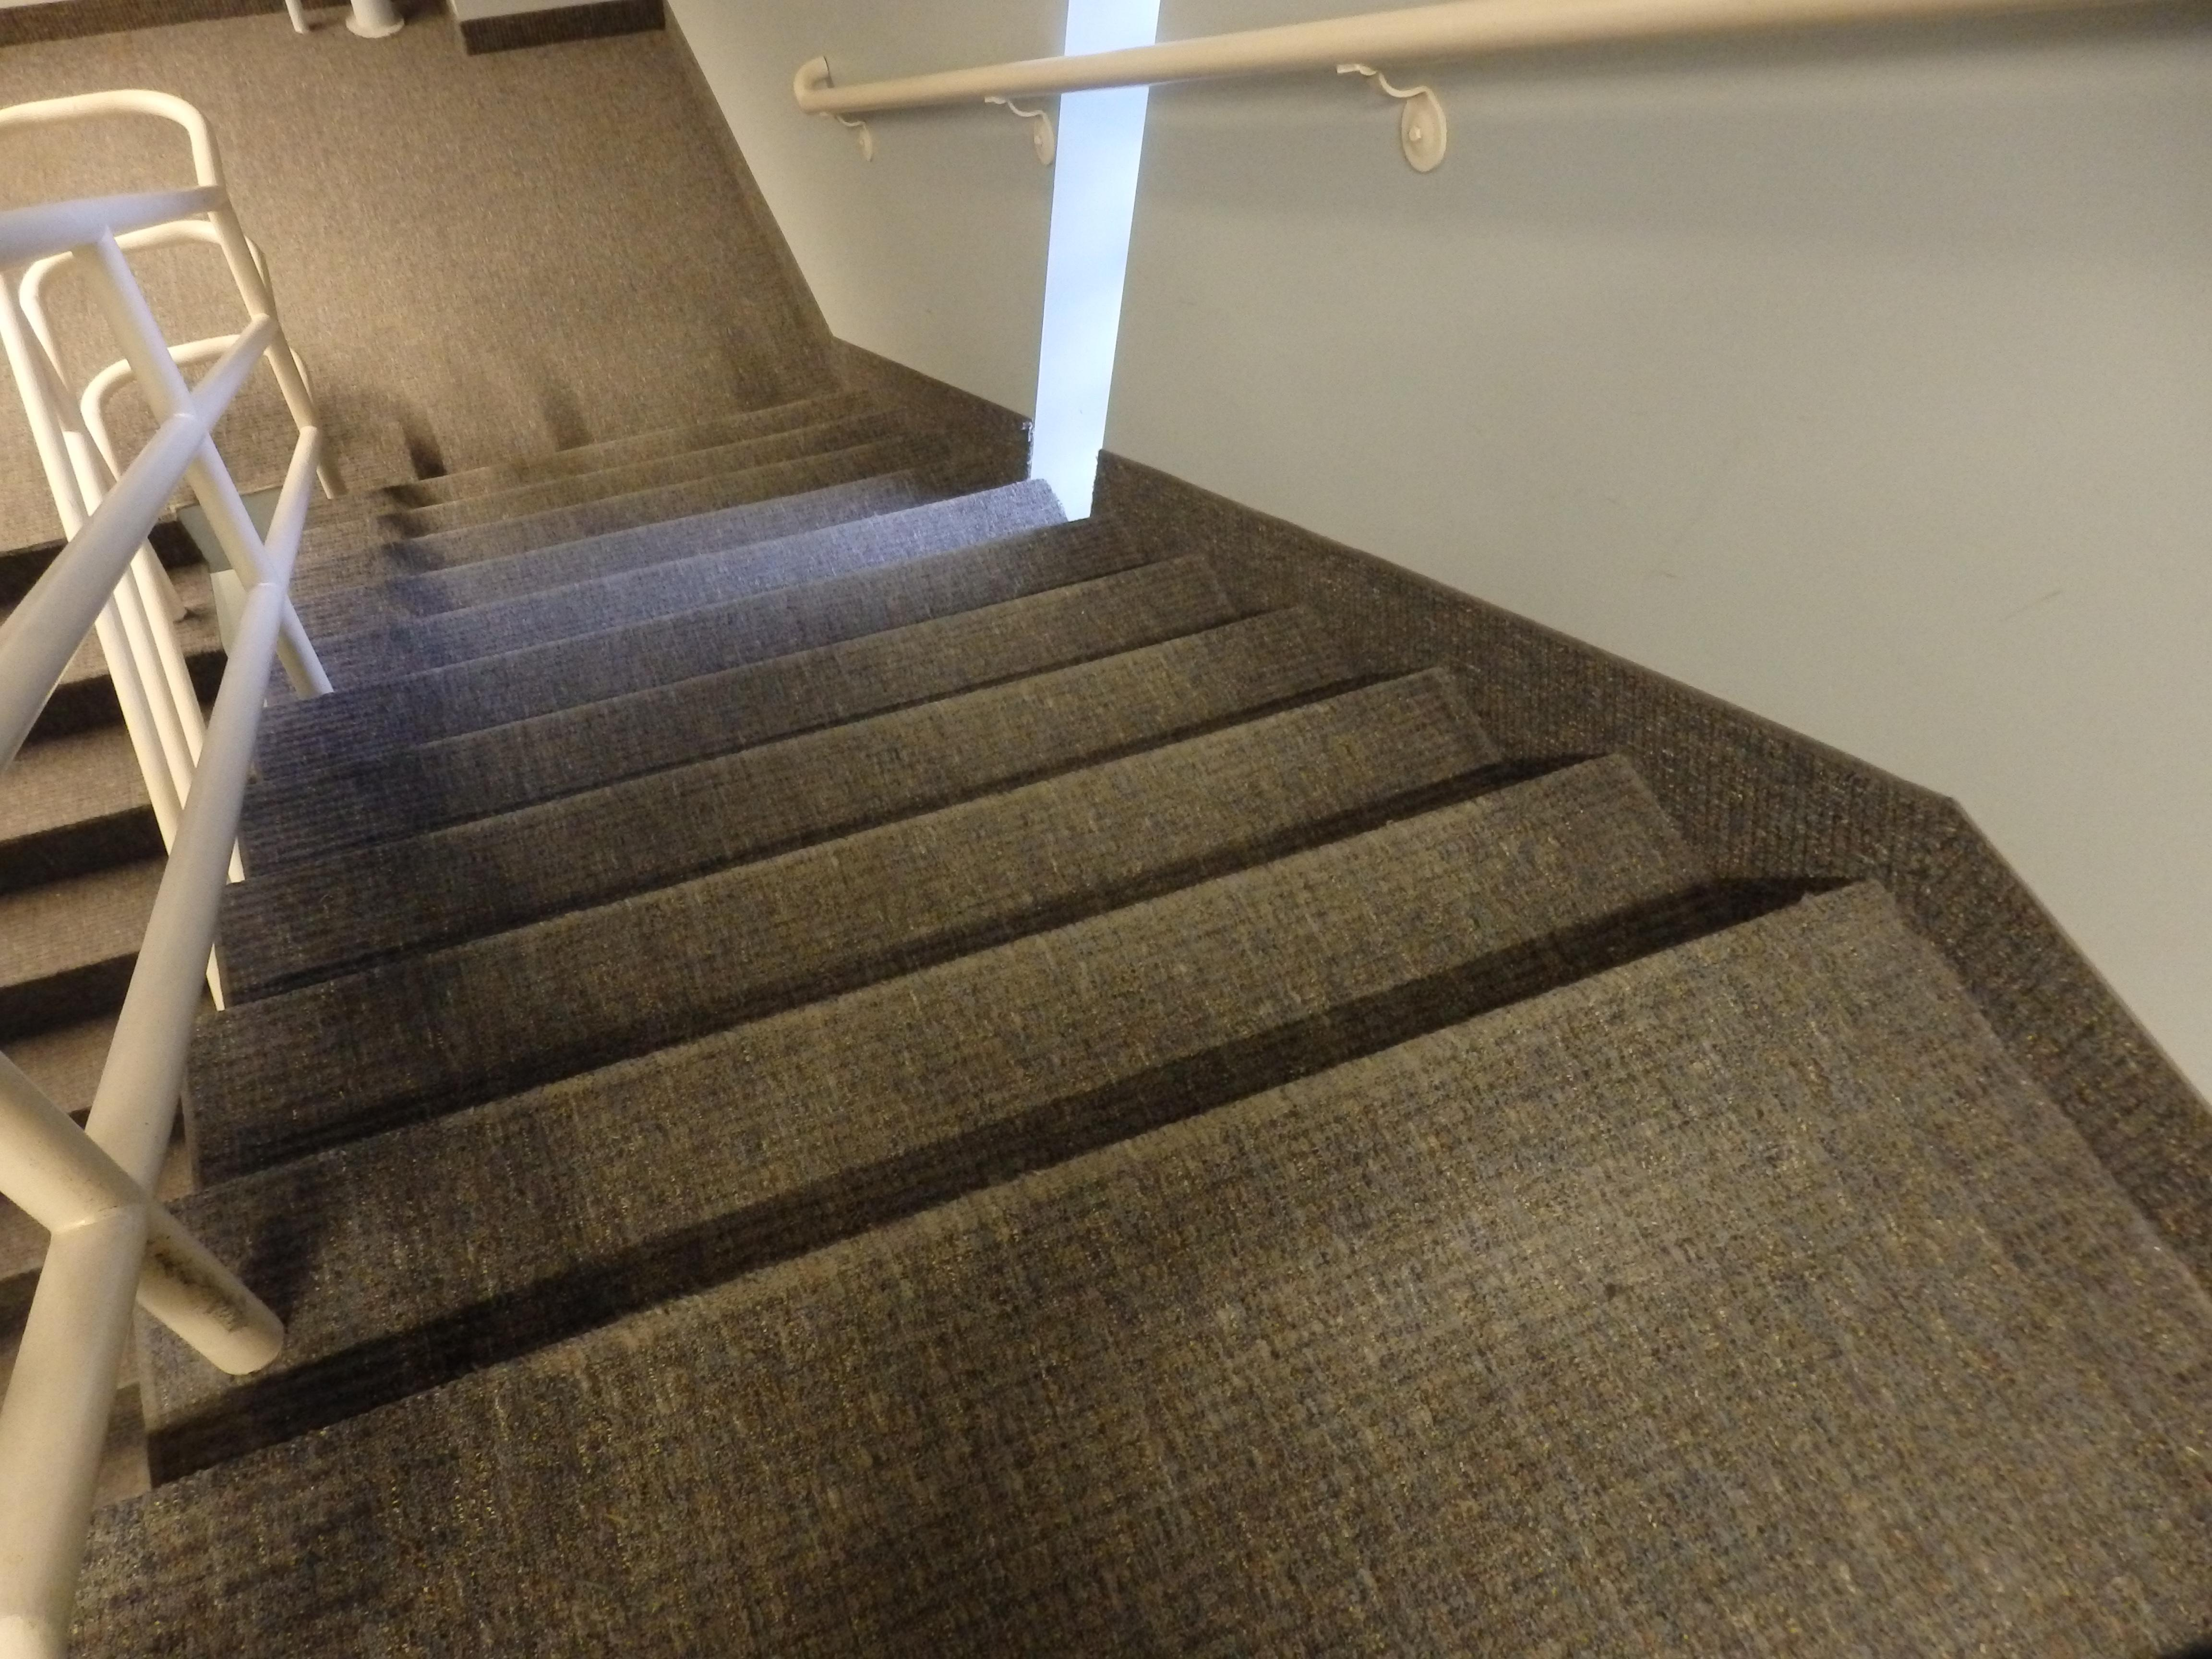stairs_down: (183, 383, 1935, 1349)
